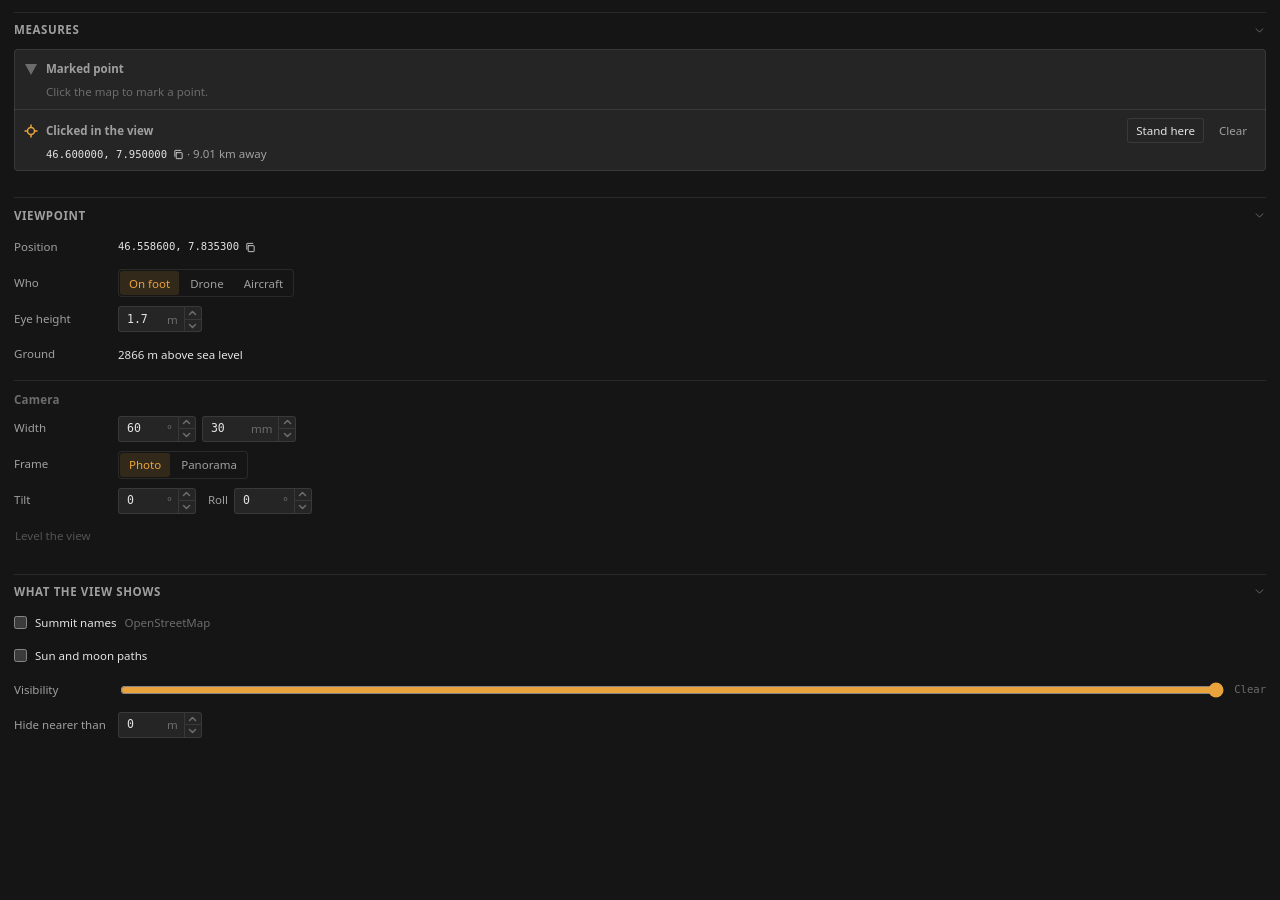
Test: the Horizon inspector › clears the ground clicked in the view, and says again how to read it
Click the button "Clear".
click(1233, 131)  # box [1210,118,1256,143]
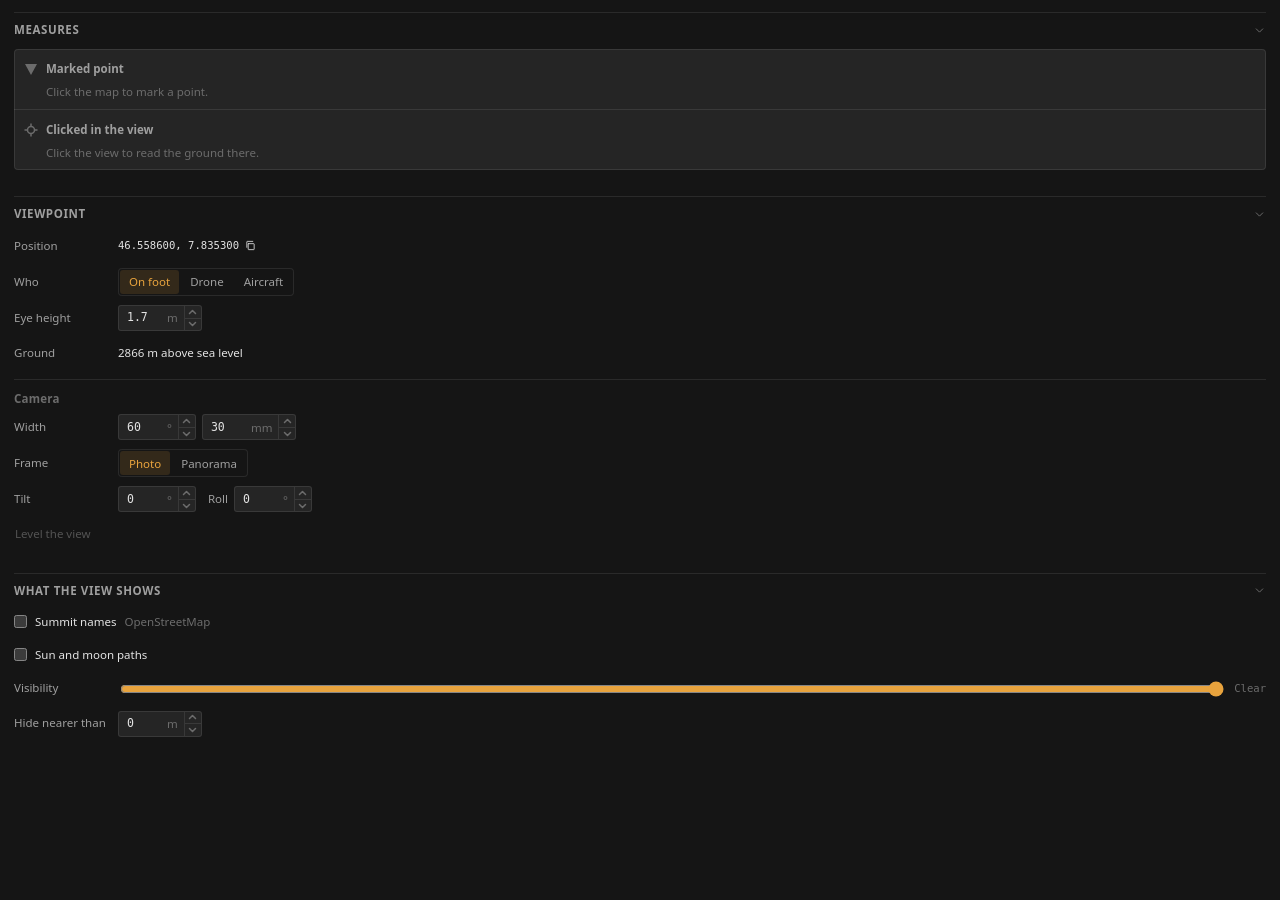
Now the element with class "reading" shows "Click the view to read the ground there.", box [46,145,259,160]
